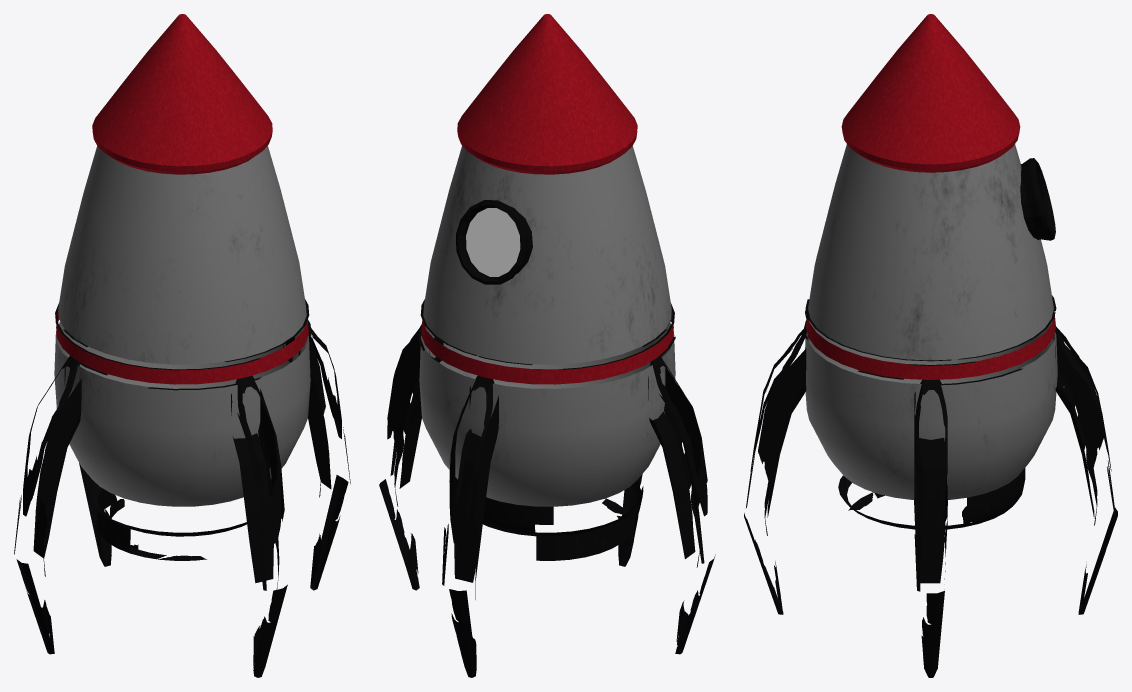
File: rocket.fbx
3 views of the same model, side by side, from view 1: azimuth 30°, elevation 25°; view 2: azimuth 150°, elevation 25°; view 3: azimuth 270°, elevation 25° (orthographic).
Visible parts, largest first — view 1: Rocket, Cube.003, Cube.001, Cube, Cube.002; view 2: Rocket, Cube.002, Cube.001, Circle, Cube, Cube.003; view 3: Rocket, Cube, Cube.002, Cube.003, Circle.
Part boxes in pixels (x1,y1,x2,y2): Rocket: (54, 14, 311, 560); Cube.003: (231, 375, 287, 677); Cube.001: (14, 355, 81, 654); Cube: (283, 328, 350, 590); Cube.002: (79, 463, 111, 566); Rocket: (418, 14, 675, 560); Cube.002: (442, 375, 498, 677); Cube.001: (648, 357, 715, 654); Circle: (456, 200, 532, 284); Cube: (379, 328, 443, 590); Cube.003: (618, 474, 643, 566); Rocket: (803, 14, 1057, 529); Cube: (914, 379, 947, 677); Cube.002: (1053, 326, 1117, 614); Cube.003: (744, 326, 808, 614); Circle: (1020, 158, 1055, 240).
Bounding box in the file's own units: 354 × 625 × 354.
Materials: 4 (3 with a texture image).
